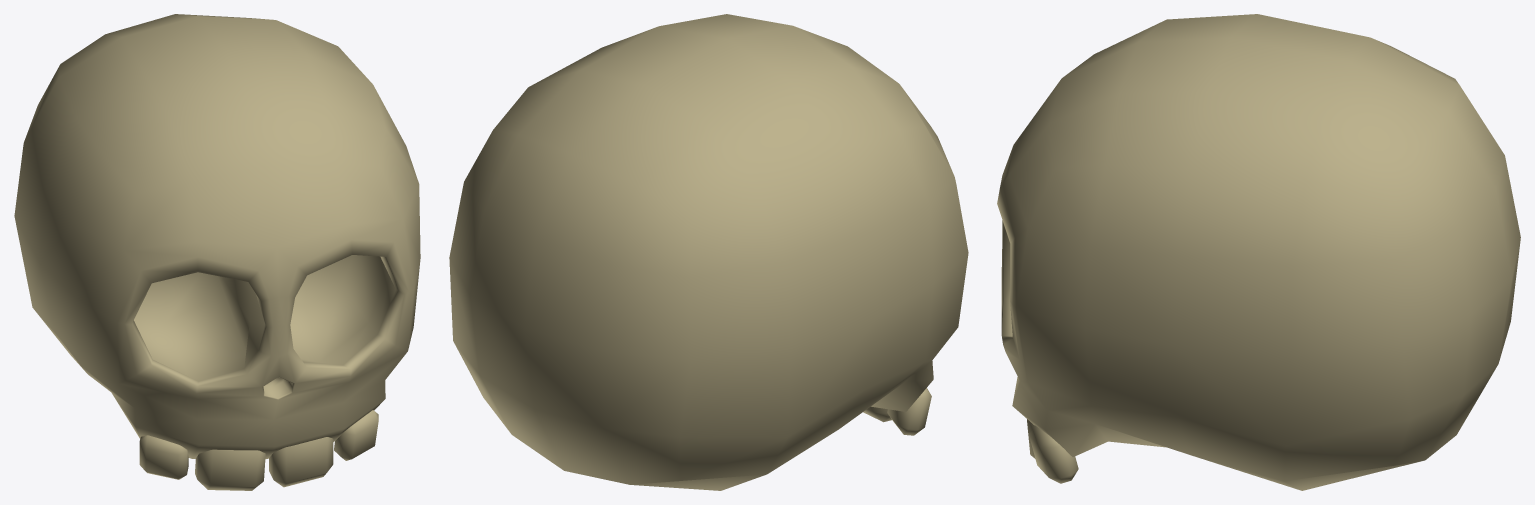
3 views of the same model, side by side, from view 1: azimuth 30°, elevation 25°; view 2: azimuth 150°, elevation 25°; view 3: azimuth 270°, elevation 25° (orthographic). The views are drawn at different scales.
Visible parts, largest first — view 1: body_head.001; view 2: body_head.001; view 3: body_head.001.
Boxes of the visible parts, <box> form: body_head.001: <box>14,14,420,490</box>; body_head.001: <box>449,14,968,490</box>; body_head.001: <box>997,14,1520,490</box>.
Bounding box in the file's own units: 66.37 × 66.96 × 75.18.
